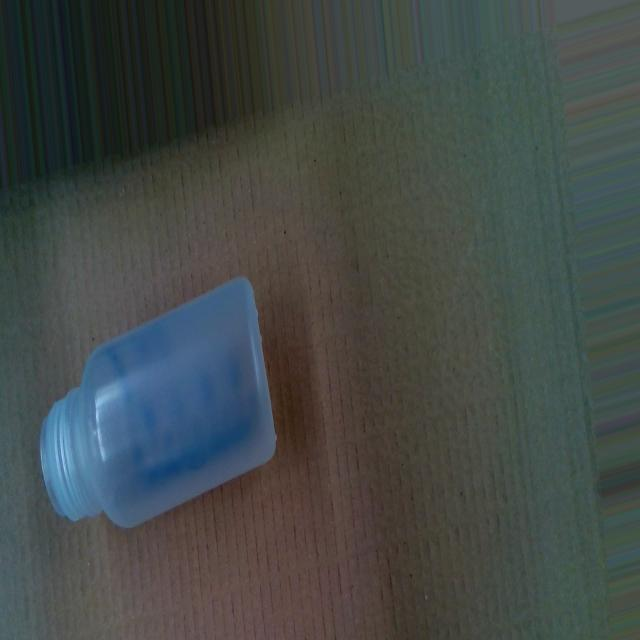bottle: (38, 267, 284, 539)
